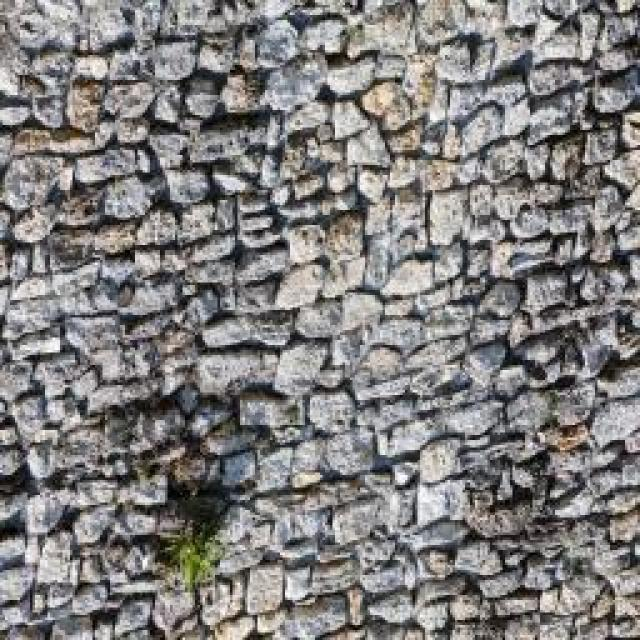crack: (3, 2, 640, 640)
vegetation: (173, 522, 221, 603)
